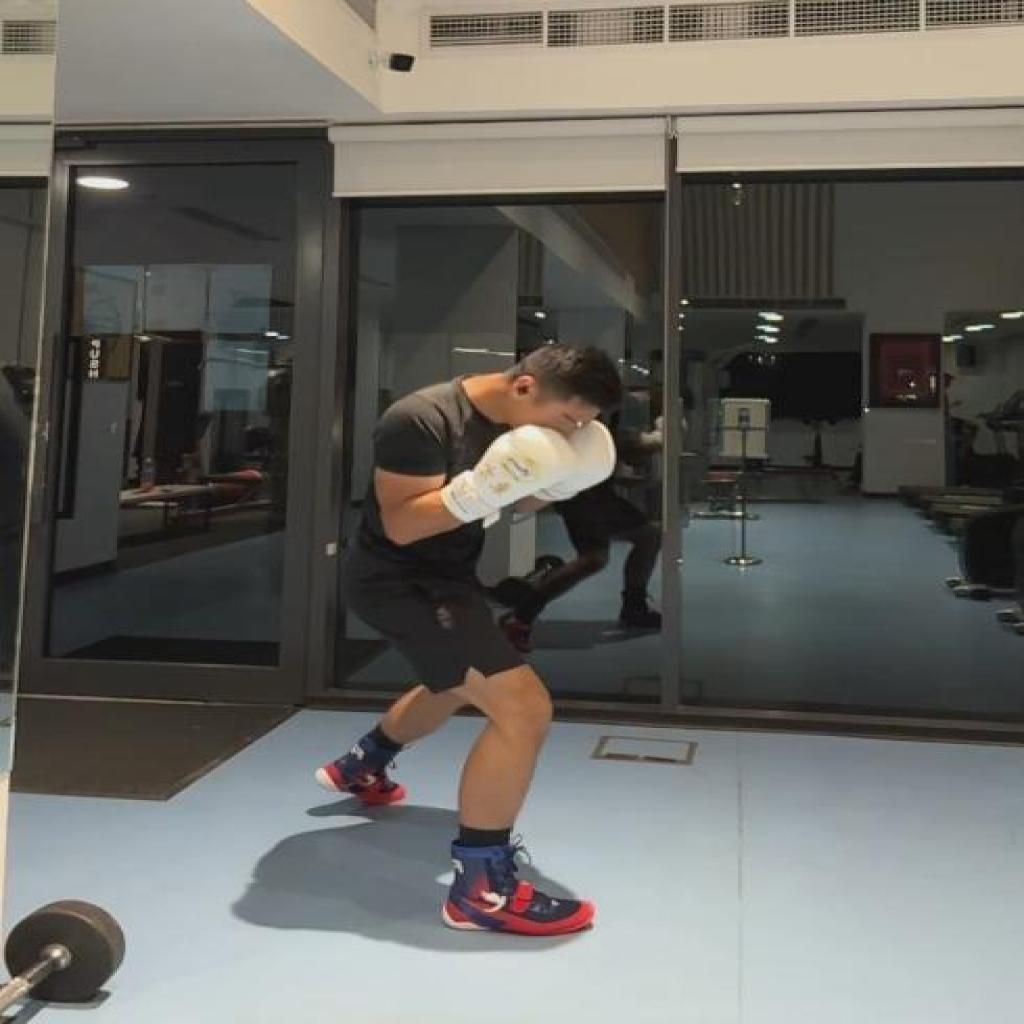no punch: (314, 338, 620, 940)
